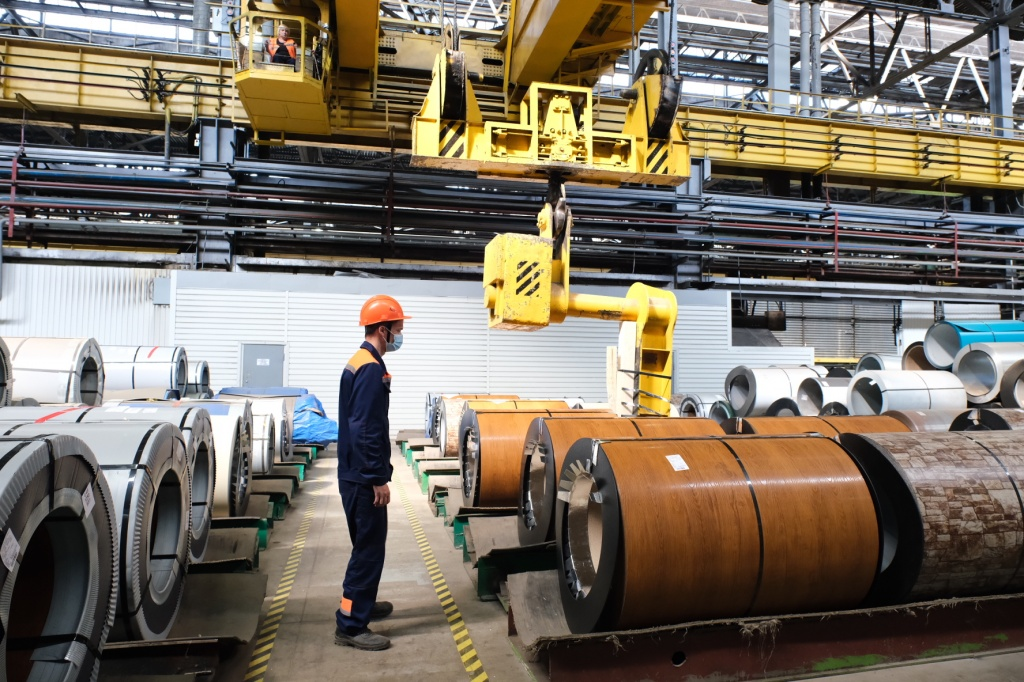person: (334, 294, 405, 652), (264, 23, 302, 79)
